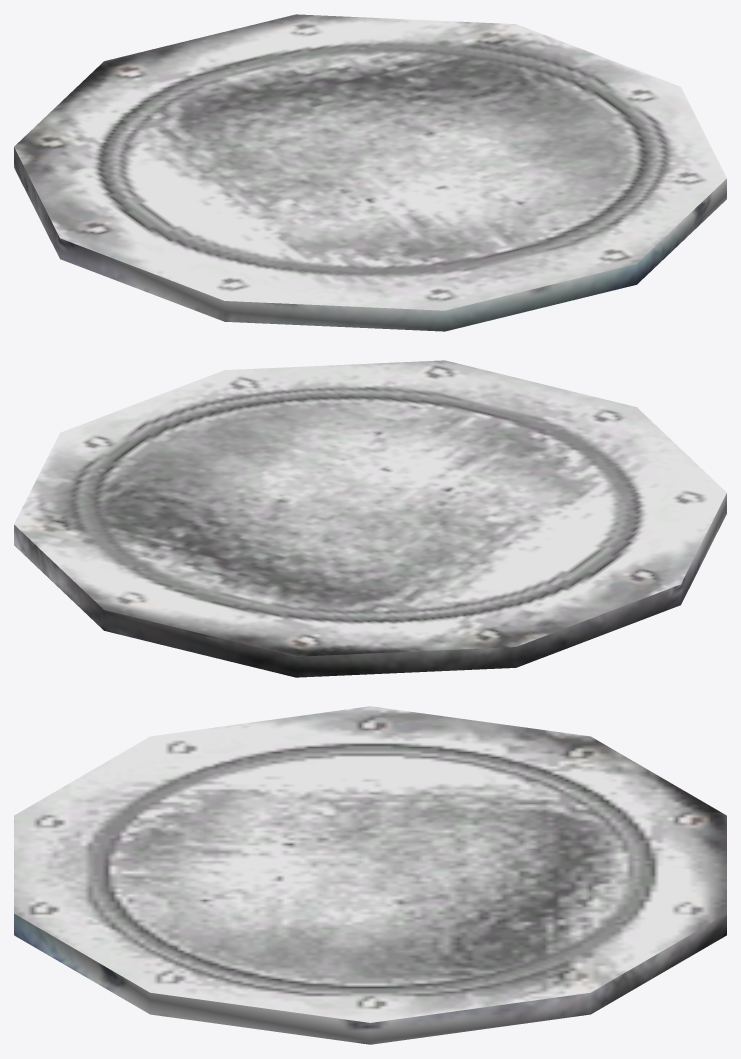
File: msc.glb
3 views of the same model, one above another, from view 1: azimuth 30°, elevation 25°; view 2: azimuth 150°, elevation 25°; view 3: azimuth 270°, elevation 25° (orthographic). The views are drawn at different scales.
Parts seen in each view (by area): view 1: msc-col; view 2: msc-col; view 3: msc-col.
Part boxes in pixels (box(x1,y1,x2,y2)): msc-col: box(14, 14, 726, 331); msc-col: box(14, 360, 726, 677); msc-col: box(14, 706, 726, 1044).
Size of the model in its own units: 0.5224 by 0.0786 by 0.4968.
1 material, 1 textured.
